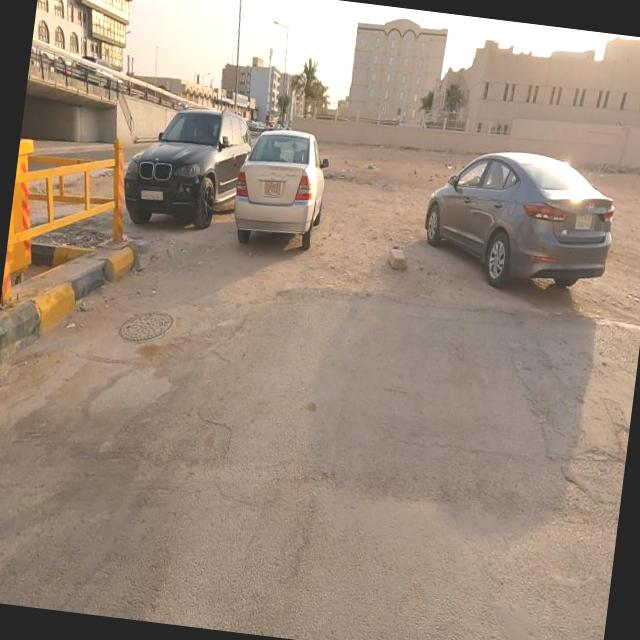debris: (364, 204, 443, 316), (326, 124, 411, 213), (422, 132, 480, 213)
